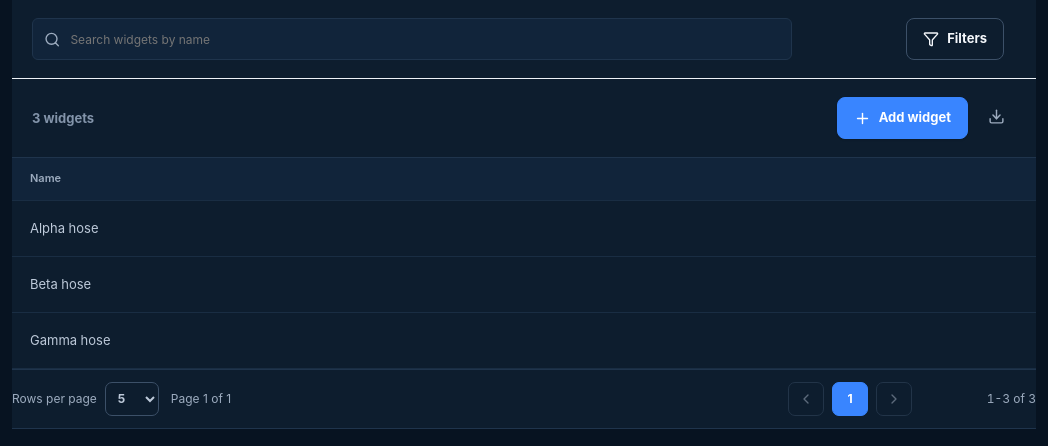
Test: empty versus no match › a search that finds nothing is a different message, with a way back
Type "zzz" into the field labelled "Search widgets" at (424, 39), box [68,30,780,48]
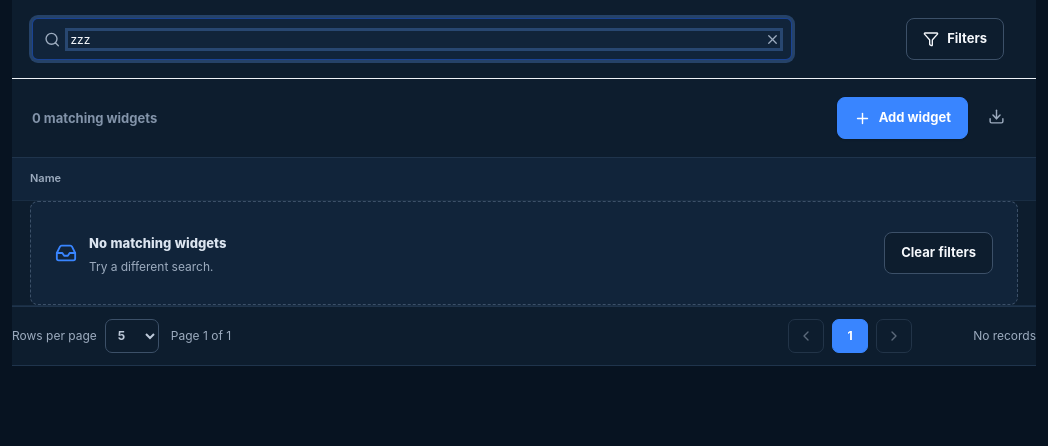
Expected: the text "No matching widgets" is shown, [89,231,226,255]
Expected: the text "Try a different search." is shown, [89,259,226,274]
Click the button "Clear filters" at (939, 252), box [884,232,993,274]
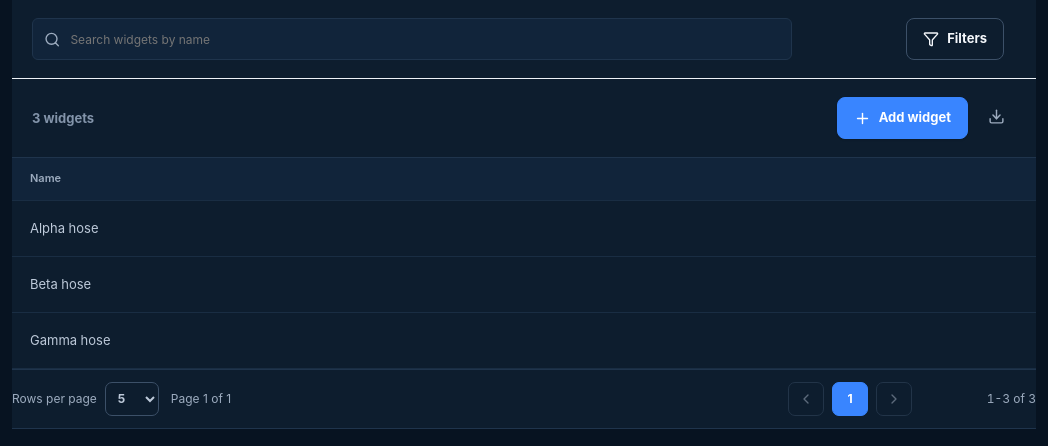
Expected: the field labelled "Search widgets" is empty, [68,30,780,48]
Expected: the number of rows is 4, [12,158,1036,200]; [12,200,1036,256]; [12,256,1036,312]; [12,312,1036,368]
